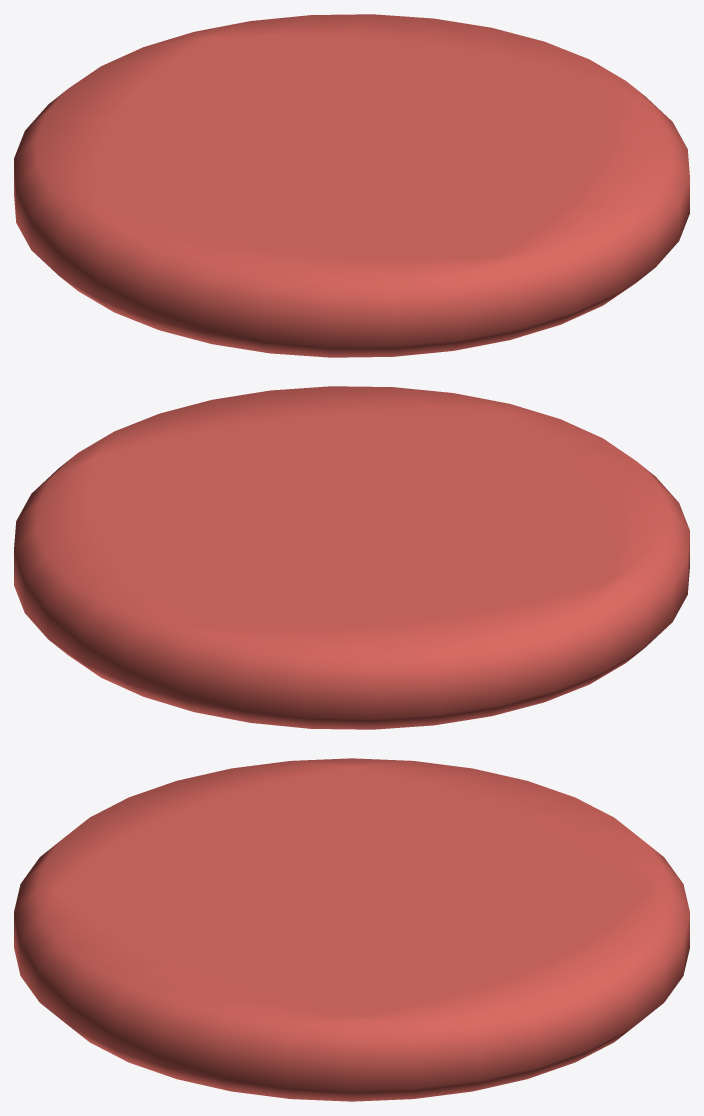
Rendered from Burger_not_ready (1).fbx.
The picture shows the model from 3 angles, top to bottom: view 1: azimuth 30°, elevation 25°; view 2: azimuth 150°, elevation 25°; view 3: azimuth 270°, elevation 25°; orthographic projection.
Parts seen in each view (by area): view 1: Cylinder.003; view 2: Cylinder.003; view 3: Cylinder.003.
Boxes of the visible parts, x1,y1,x2,y2 form: Cylinder.003: (14,14,689,357); Cylinder.003: (14,386,689,729); Cylinder.003: (14,758,689,1101).
Bounding box in the file's own units: 200 × 25 × 200.
